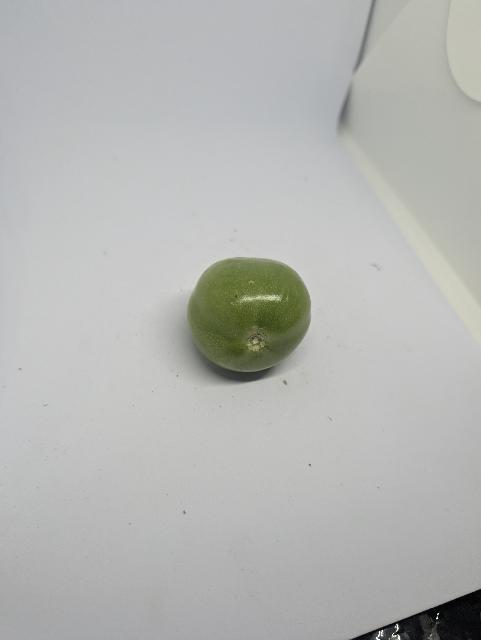green: (186, 255, 313, 376)
